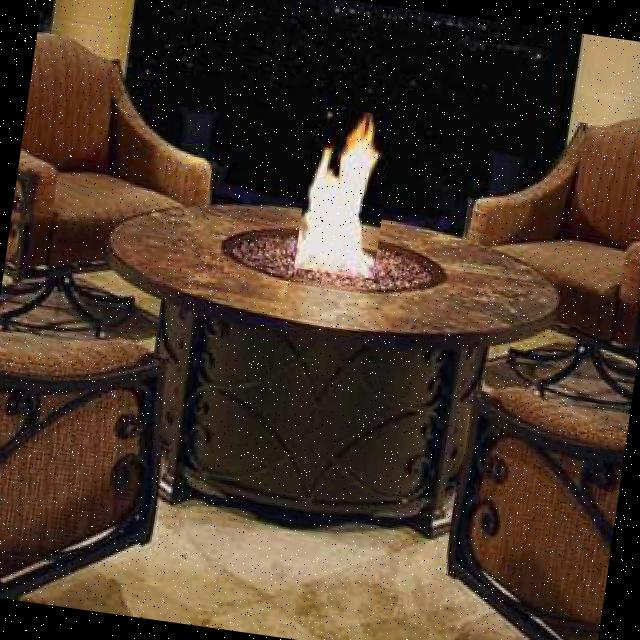fire: (294, 105, 396, 279)
